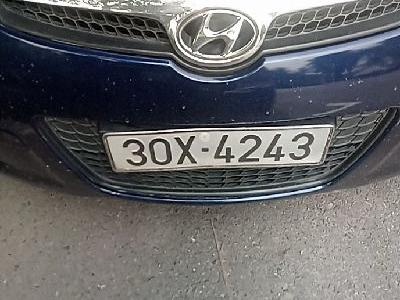number: (102, 129, 332, 172)
